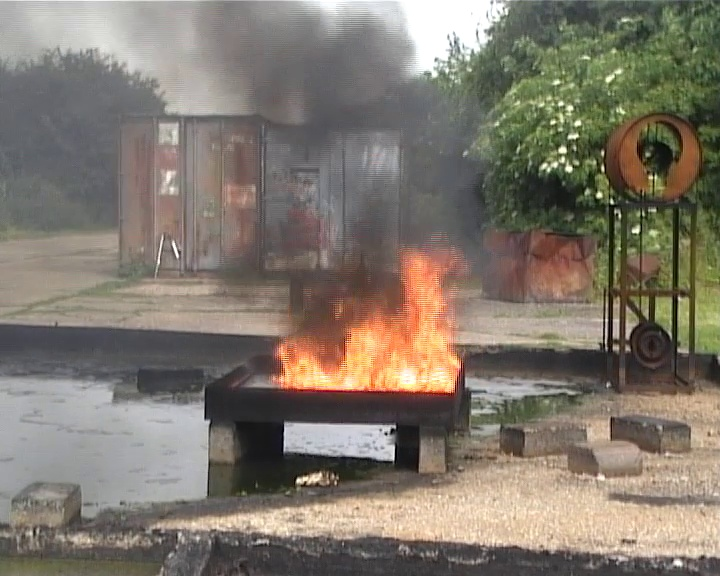fire: (277, 262, 458, 392)
